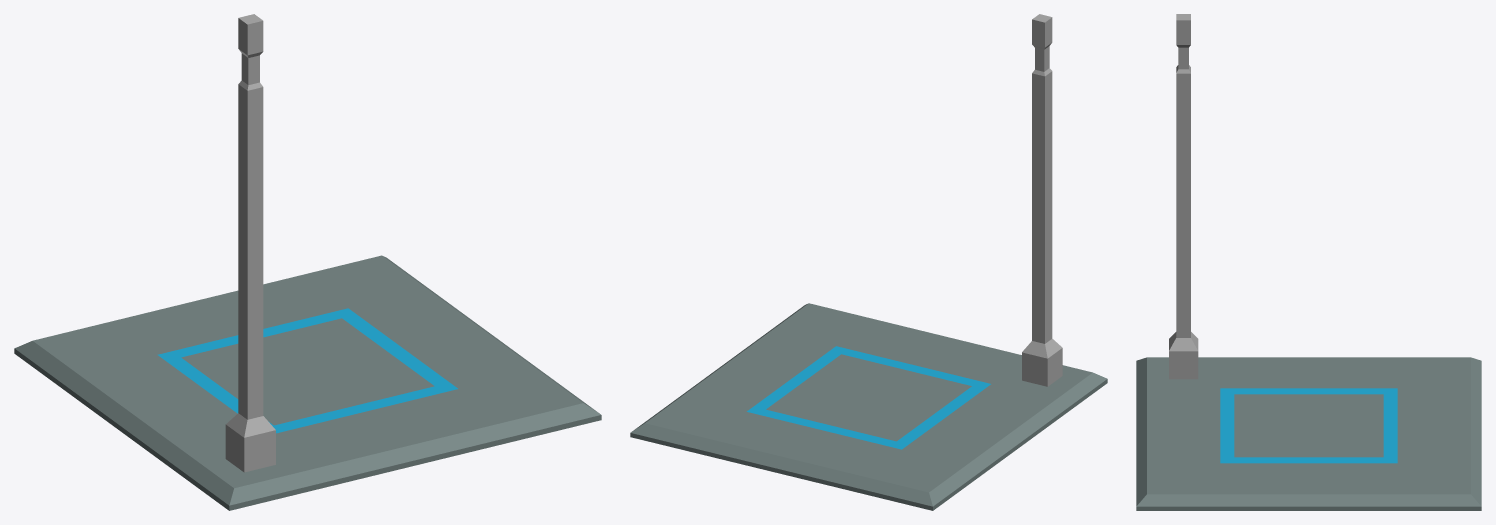
The model's file is RocketPad.fbx.
3 views of the same model, side by side, from view 1: azimuth 30°, elevation 25°; view 2: azimuth 150°, elevation 25°; view 3: azimuth 270°, elevation 25° (orthographic). The views are drawn at different scales.
Visible parts, largest first — view 1: RocketPad; view 2: RocketPad; view 3: RocketPad.
Boxes of the visible parts, x1,y1,x2,y2 form: RocketPad: (14,14,601,510); RocketPad: (630,14,1107,510); RocketPad: (1136,14,1481,510).
Size of the model in its own units: 300 by 353 by 300.
